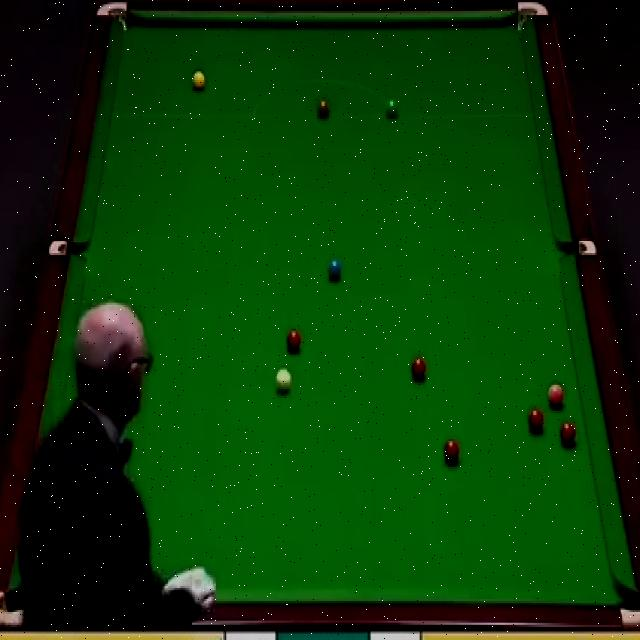blue-ball: (328, 255, 342, 282)
brown-ball: (316, 98, 331, 118)
green-ball: (384, 96, 400, 120)
pink-ball: (547, 383, 563, 408)
red-ball: (410, 356, 429, 384), (442, 440, 461, 467), (558, 421, 576, 444), (286, 327, 301, 350), (528, 407, 544, 428)
white-ball: (274, 370, 294, 393)
yellow-ball: (192, 72, 206, 92)
